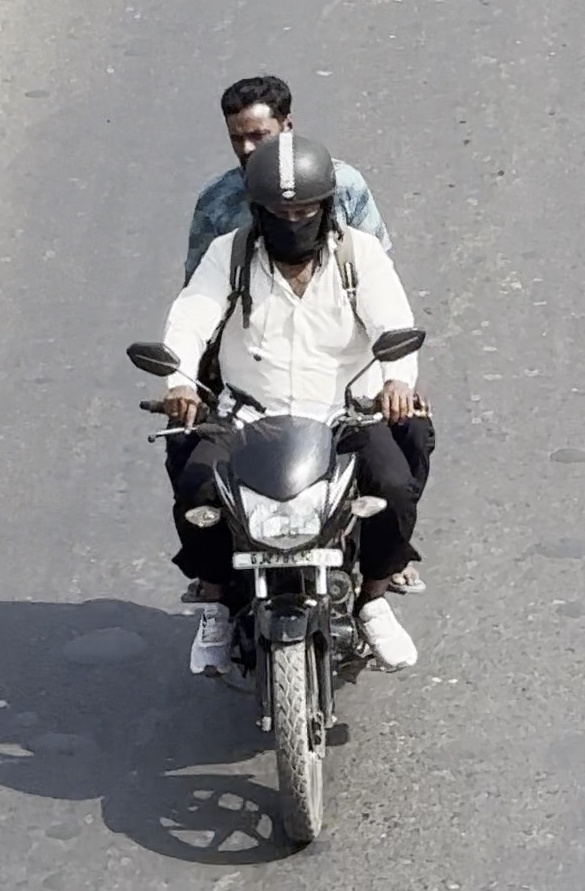BikeWithRider: (114, 68, 454, 851)
Helmet: (240, 134, 349, 266)
NoHelmet: (206, 68, 314, 186)
